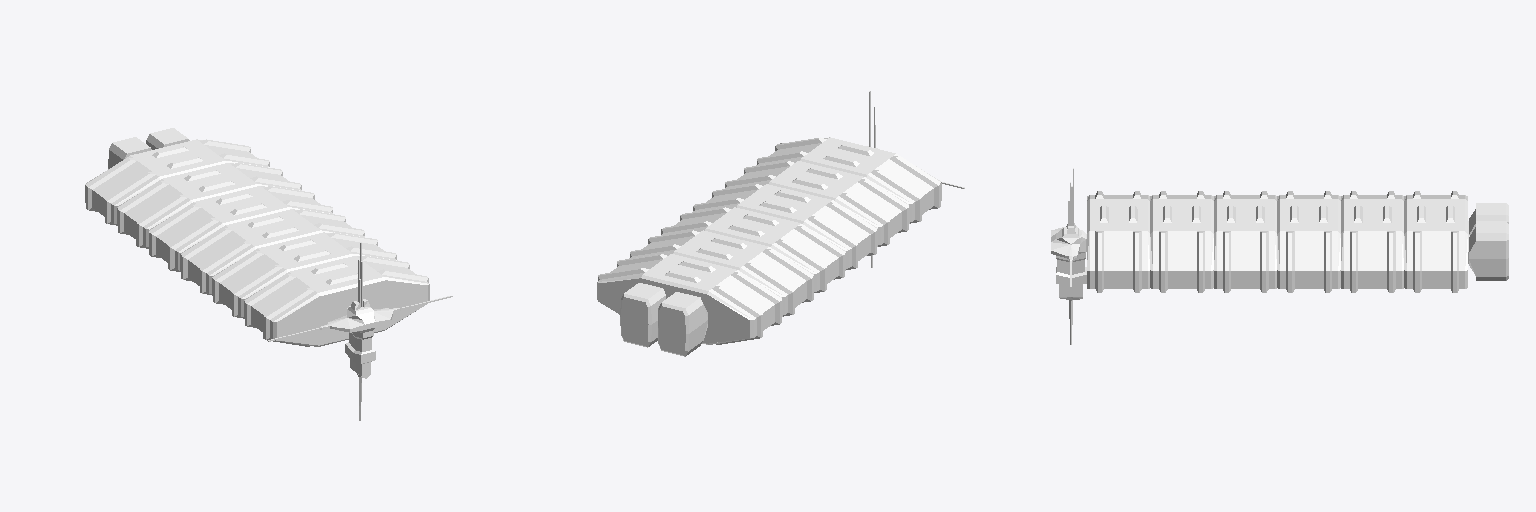
File: Tridacna.obj
3 renders of one model, left to right at view 1: azimuth 30°, elevation 25°; view 2: azimuth 150°, elevation 25°; view 3: azimuth 270°, elevation 25°, orthographic.
Visible parts, largest first — view 1: octotoad4_octotoad4_a; view 2: octotoad4_octotoad4_a; view 3: octotoad4_octotoad4_a.
Part boxes in pixels (bbox=[...]): octotoad4_octotoad4_a: bbox=[85, 128, 452, 420]; octotoad4_octotoad4_a: bbox=[597, 91, 964, 356]; octotoad4_octotoad4_a: bbox=[1051, 168, 1508, 344].
Size of the model in its own units: 1.91 by 1.76 by 4.12.